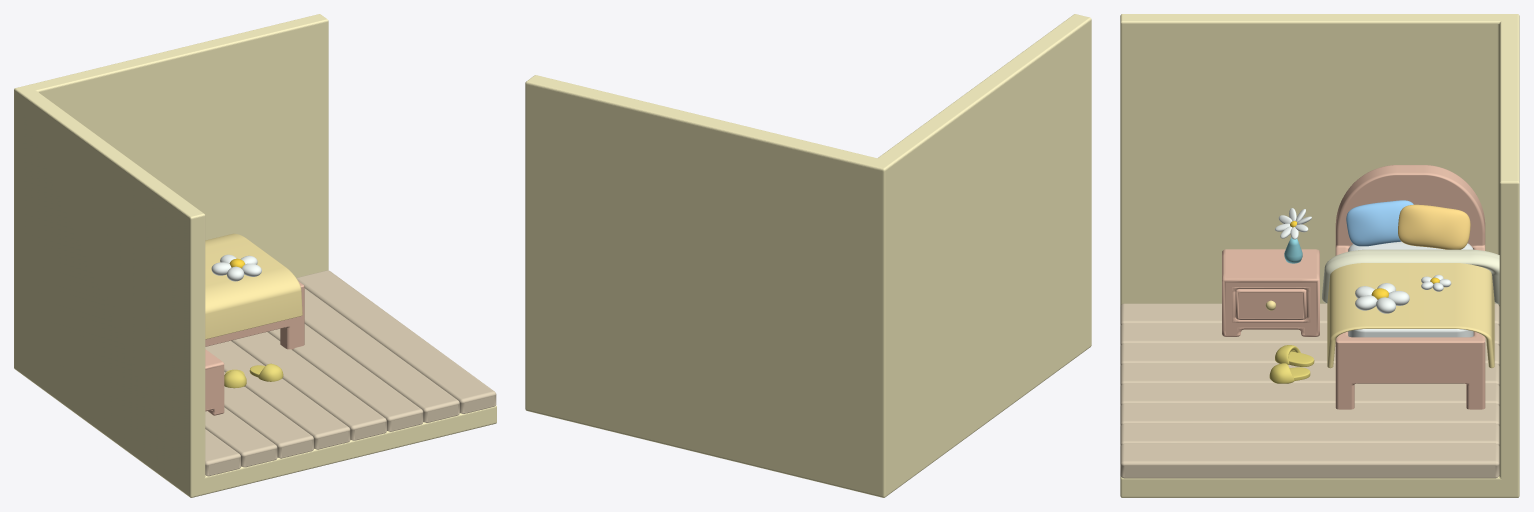
Rendered from forestRoom.glb.
3 views of the same model, side by side, from view 1: azimuth 30°, elevation 25°; view 2: azimuth 150°, elevation 25°; view 3: azimuth 270°, elevation 25° (orthographic). The views are drawn at different scales.
Visible parts, largest first — view 1: Cube.002; view 2: Cube.002; view 3: Cube.002.
Boxes of the visible parts, left/top/right/bottom form: Cube.002: left=14, top=14, right=496, bottom=497; Cube.002: left=525, top=14, right=1091, bottom=497; Cube.002: left=1120, top=14, right=1519, bottom=497.
Bounding box in the file's own units: 4 × 3.5 × 4.
